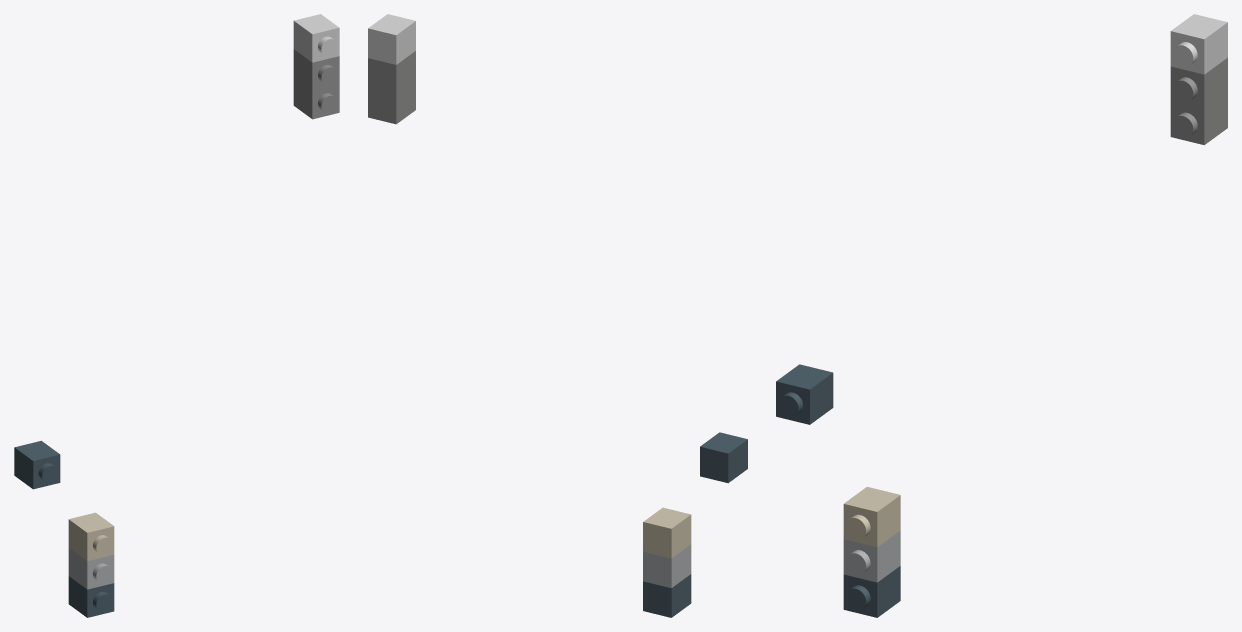
Rendered from current.glb.
3 views of the same model, side by side, from view 1: azimuth 30°, elevation 25°; view 2: azimuth 150°, elevation 25°; view 3: azimuth 330°, elevation 25° (orthographic). The views are drawn at different scales.
Parts seen in each view (by area): view 1: world; view 2: world; view 3: world.
Boxes of the visible parts, box(x1,y1,x2,y2) form: world: box(14, 14, 339, 617); world: box(368, 14, 747, 617); world: box(776, 14, 1227, 617).
Size of the model in its own units: 96 by 144 by 21.
